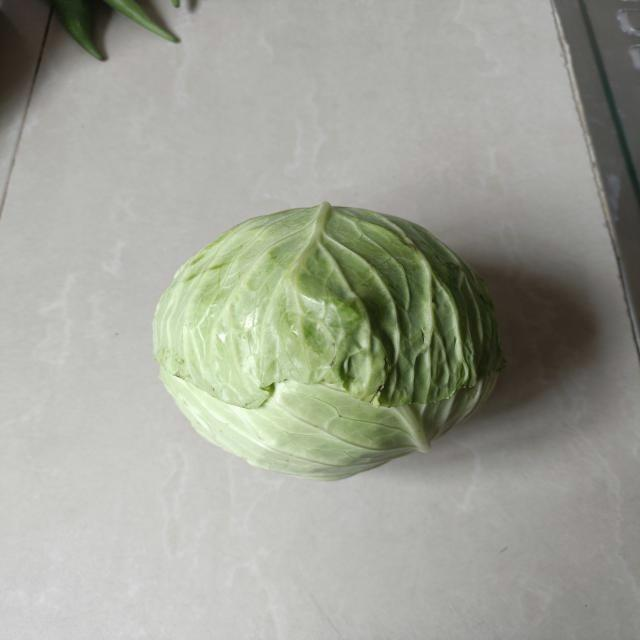cabbage: (148, 197, 510, 485)
